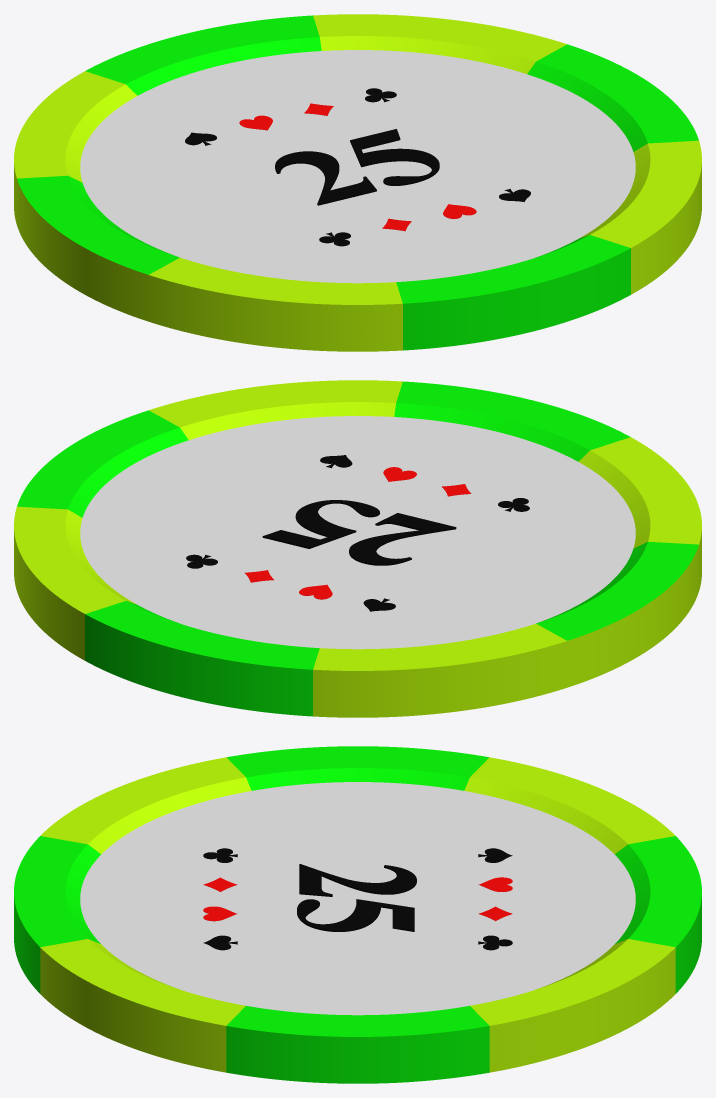
Rendered from Value25Chip.fbx.
3 renders of one model, top to bottom at view 1: azimuth 30°, elevation 25°; view 2: azimuth 150°, elevation 25°; view 3: azimuth 270°, elevation 25°, orthographic.
Parts seen in each view (by area): view 1: Base, Value01; view 2: Base, Value01; view 3: Base, Value01.
Part boxes in pixels (bbox=[...]): Base: bbox=[14, 14, 701, 351]; Value01: bbox=[275, 129, 439, 205]; Base: bbox=[14, 380, 701, 717]; Value01: bbox=[262, 500, 456, 565]; Base: bbox=[14, 746, 701, 1083]; Value01: bbox=[297, 864, 416, 931].
Bounding box in the file's own units: 80 × 6 × 80.
